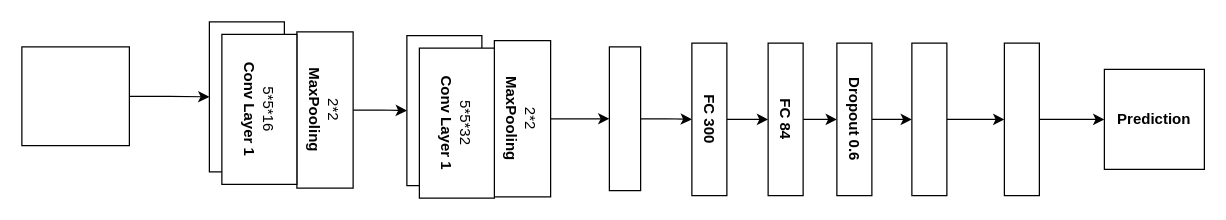
This 1226x220 diagram has some shape labels left out. Each missing label, with the centre of its shape:
"Flatten" goes at pixel 624 118.
"Input 32*32" goes at pixel 75 96.
"Output 43" goes at pixel 929 119.
"SoftMax" goes at pixel 1021 119.
